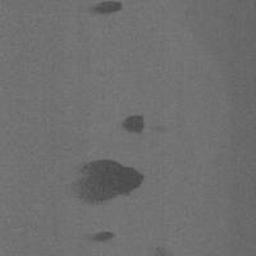Oil spot: (68, 157, 146, 209), (115, 113, 146, 136), (86, 0, 124, 17), (81, 230, 115, 243), (151, 246, 175, 256)
